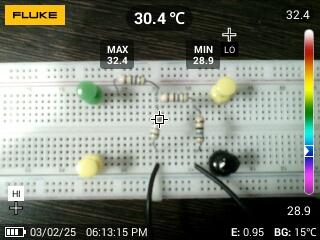resistor: (114, 72, 150, 88), (191, 114, 208, 147), (157, 91, 192, 103), (149, 112, 162, 142)
